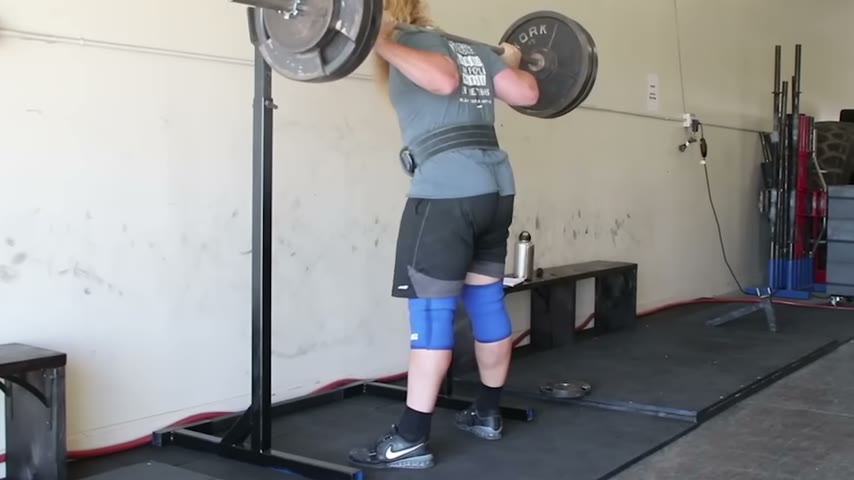barbell_plate_side: (498, 4, 603, 124), (248, 0, 323, 90)
